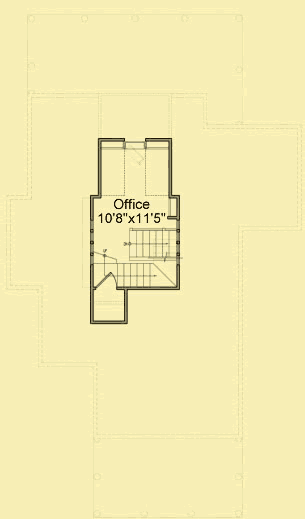stairs: (123, 227, 181, 260), (103, 264, 155, 288)
